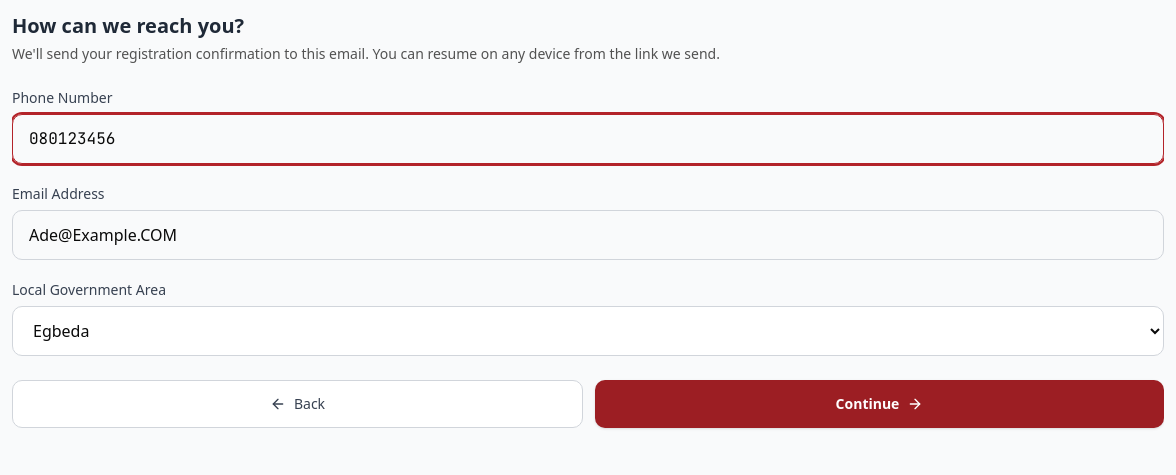
Test: Step2ContactLga phone normalisation (Story 13-57 AC1) › refuses 080123456 at the point of entry rather than after submit
Click the button "Continue": click(880, 404) x1=595 y1=380 x2=1164 y2=428
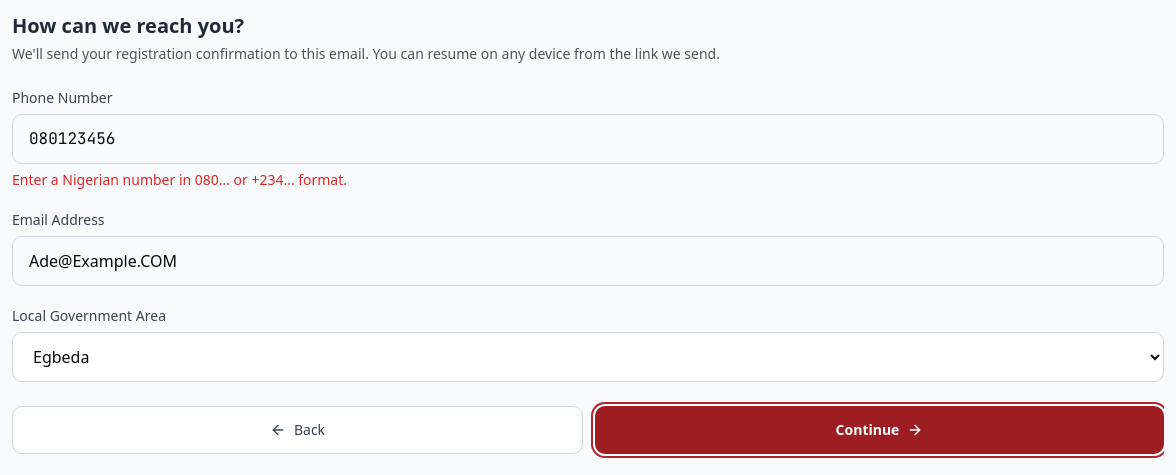
expect the text "Enter a Nigerian number in 080… or +234… format." is shown: met, box x1=12 y1=170 x2=347 y2=189
